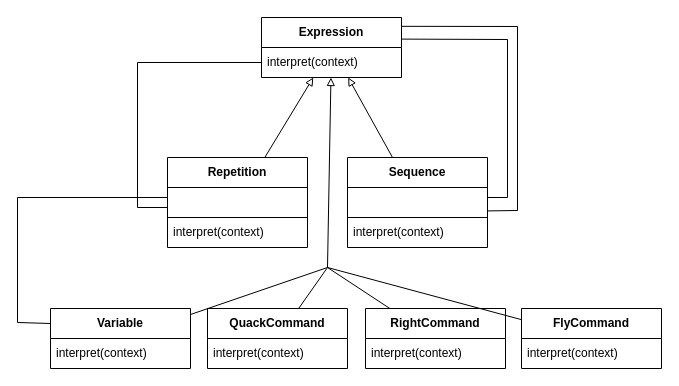
Image size: 679x386. Some labels were removed from this diagram. The centre of each missing label's shape, as x and y in pixels:
"expression1 expression2" goes at pixel 417 202.
"variable expression" goes at pixel 237 202.
